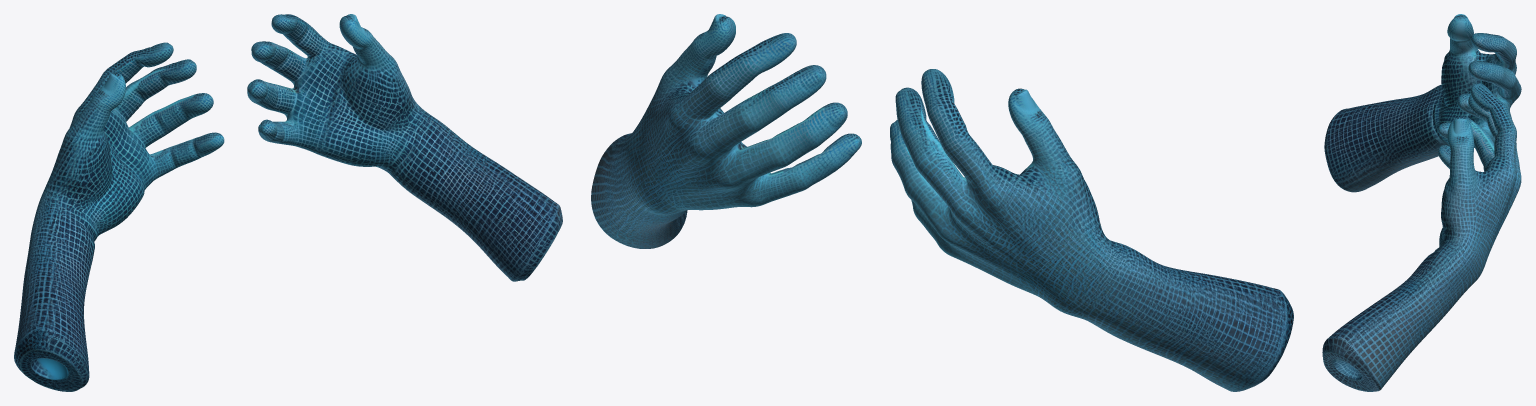
File: holo_hands_model.glb
The picture shows the model from 3 angles, left to right: view 1: azimuth 30°, elevation 25°; view 2: azimuth 150°, elevation 25°; view 3: azimuth 270°, elevation 25°; orthographic projection. The views are drawn at different scales.
Bounding box in the file's own units: 1.9 × 0.8599 × 0.6736.
1 material, 1 textured.
